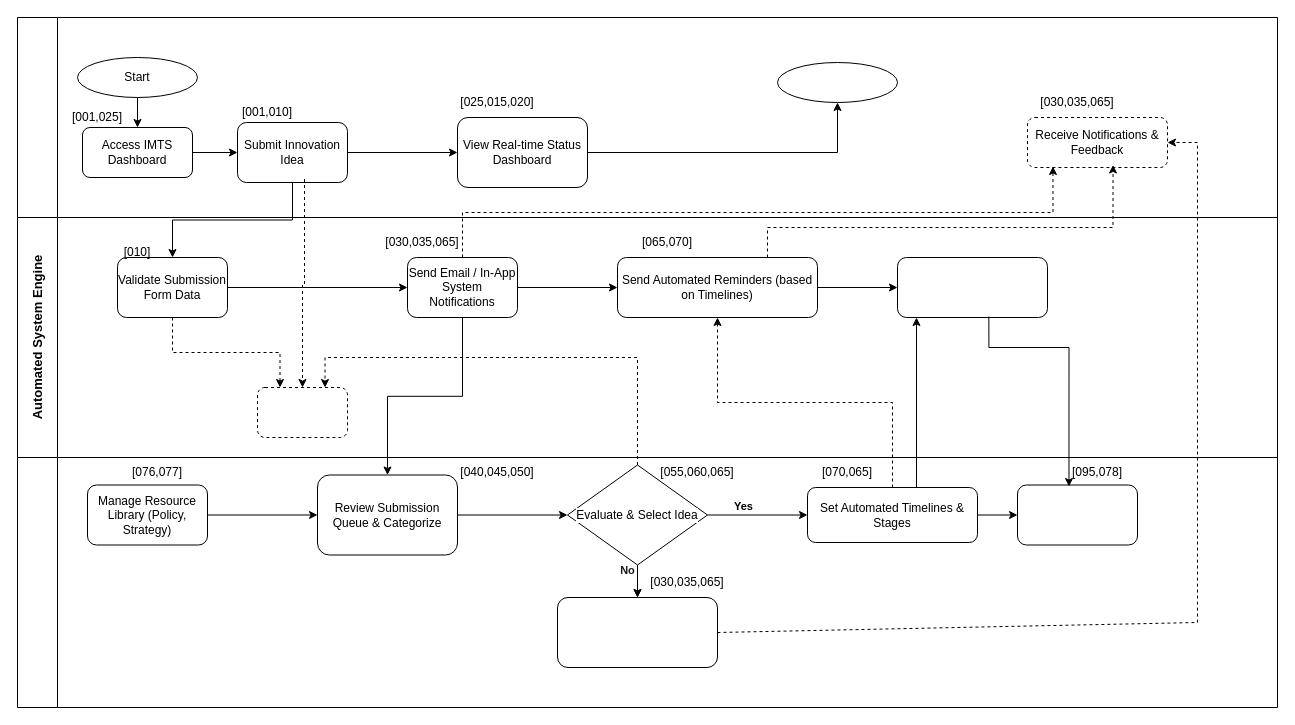
The diagram is 1295 pixels wide and 725 high, and some of its shapes have lost their labels. Here are the shapes that lost their labels. From the top down, the box of each, then its label:
(776, 62, 898, 102): End
(16, 16, 1278, 218): Staff User
(896, 256, 1048, 318): Manage Document Control & Versioning
(256, 386, 348, 438): Log all activities for Security Compliance
(1016, 484, 1138, 545): Extract Reports for KPI Tracking
(16, 456, 1278, 708): Innovation Team (Strategy & Innovation)
(556, 596, 718, 668): Communicate via Comments / Notifications
